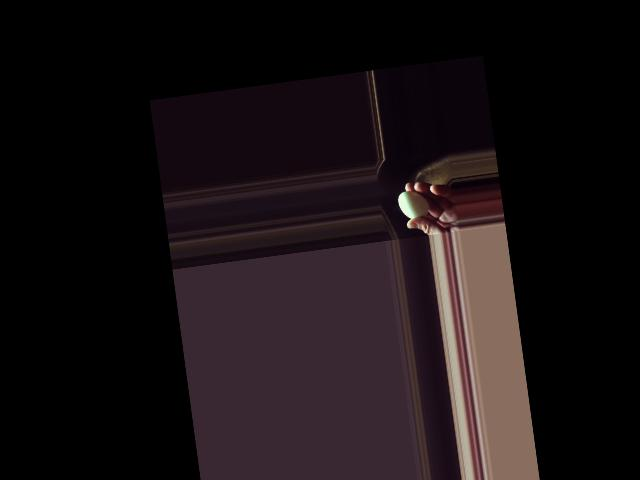egg: (397, 189, 430, 221)
